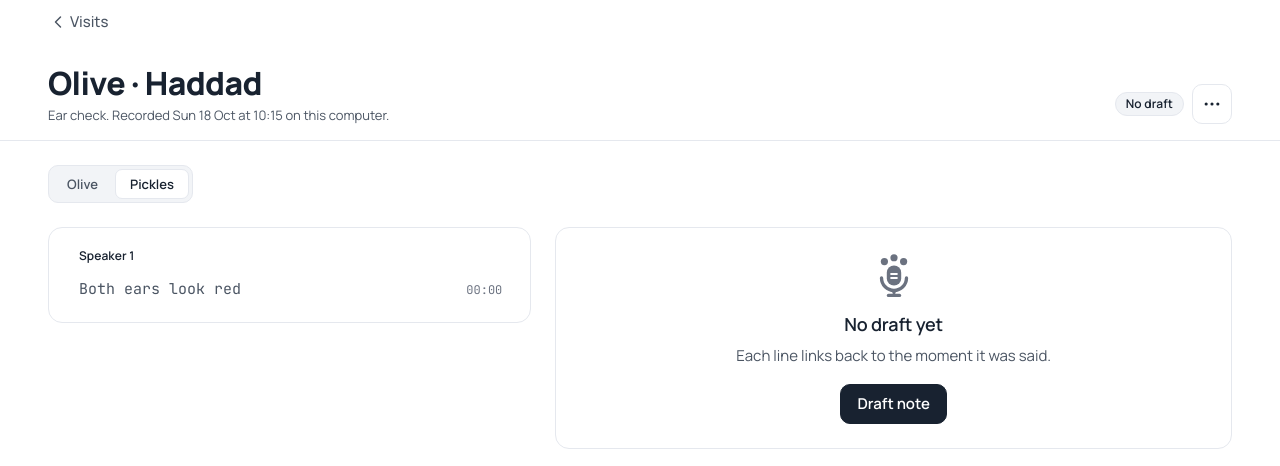
Test: Review: deleting › offers Delete recording in More; a technician can't on a signed visit, and sees why
Click the button named "More actions".
click(1212, 104)  # box [1192,84,1232,124]
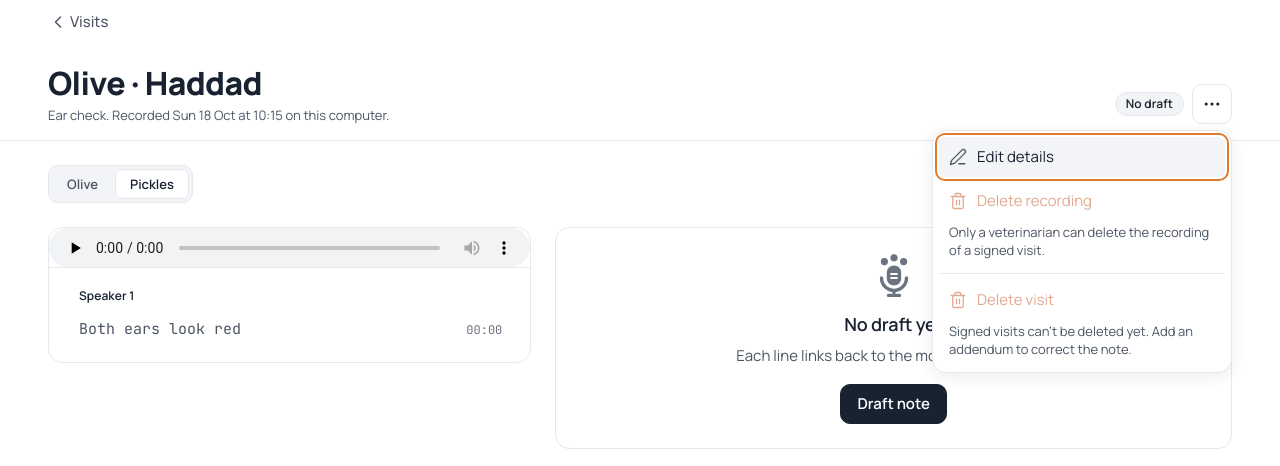
Check: the button "Delete recording" is disabled, box [939,181,1225,221]
